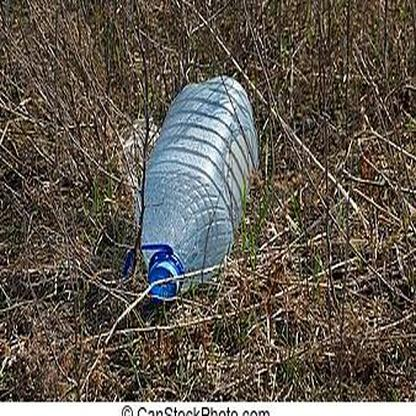plastic bottle: (124, 74, 260, 296)
